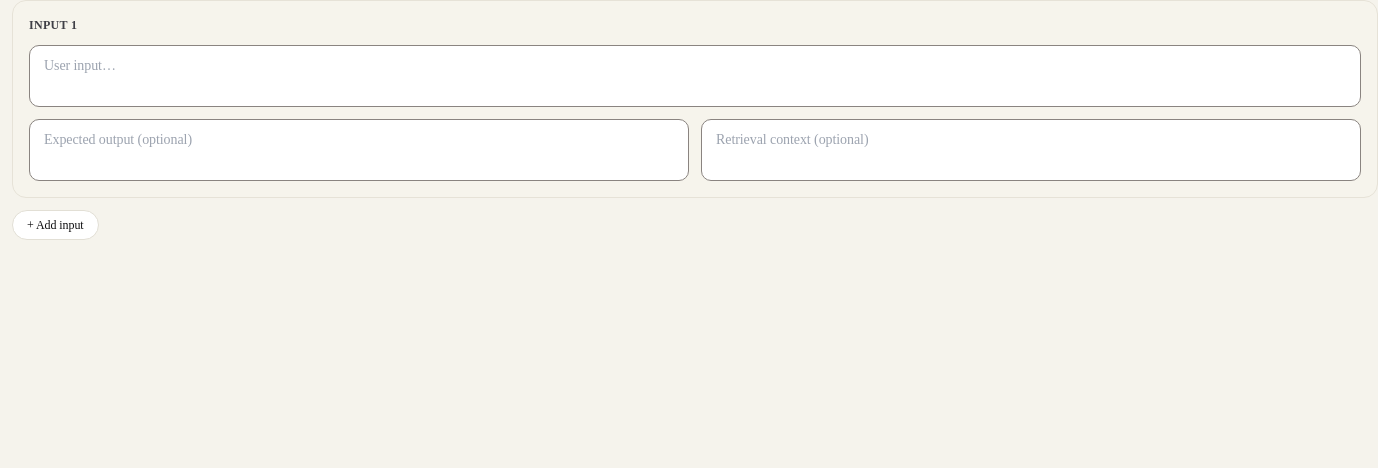
Test: InstanceRowsEditor › adds a new row via the Add input button, enabling remove on both
Click the button "+ Add input".
click(55, 225)  # box x1=12 y1=210 x2=99 y2=240
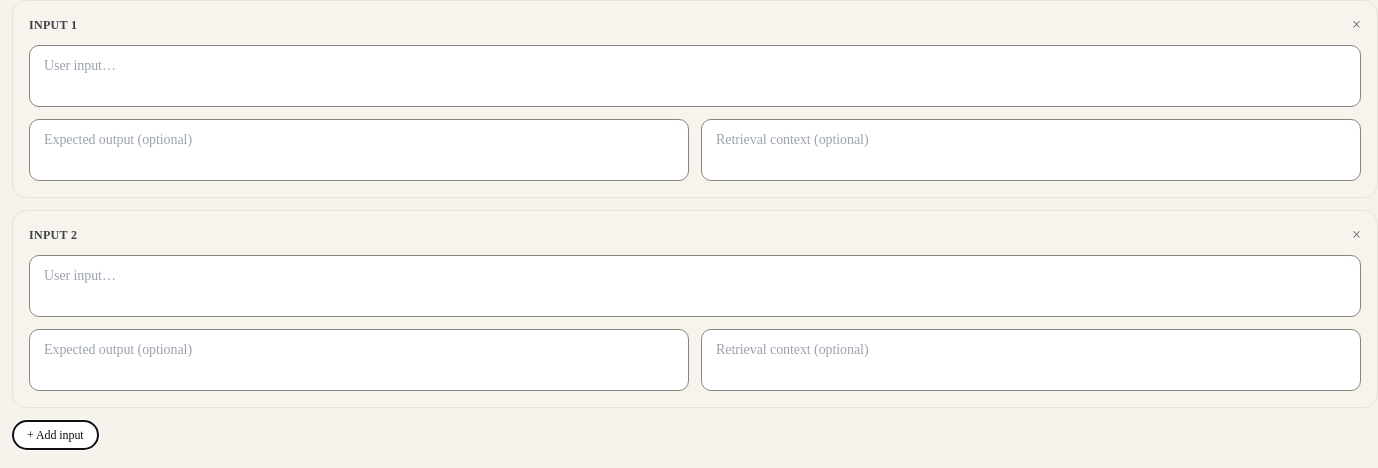
expect the text "Input 2" is shown: met, box x1=29 y1=227 x2=77 y2=243
expect the button named "Remove input 1" is enabled: met, box x1=1352 y1=17 x2=1361 y2=33
expect the button named "Remove input 2" is enabled: met, box x1=1352 y1=227 x2=1361 y2=243
